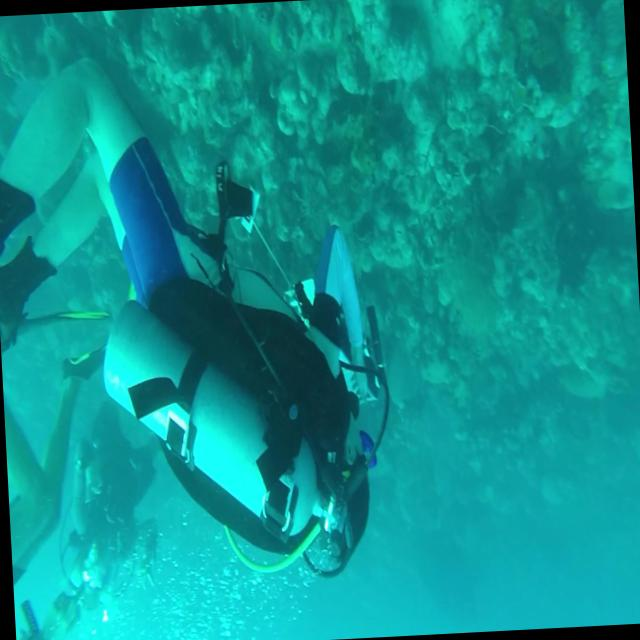human: (0, 41, 392, 594), (55, 380, 160, 635)
